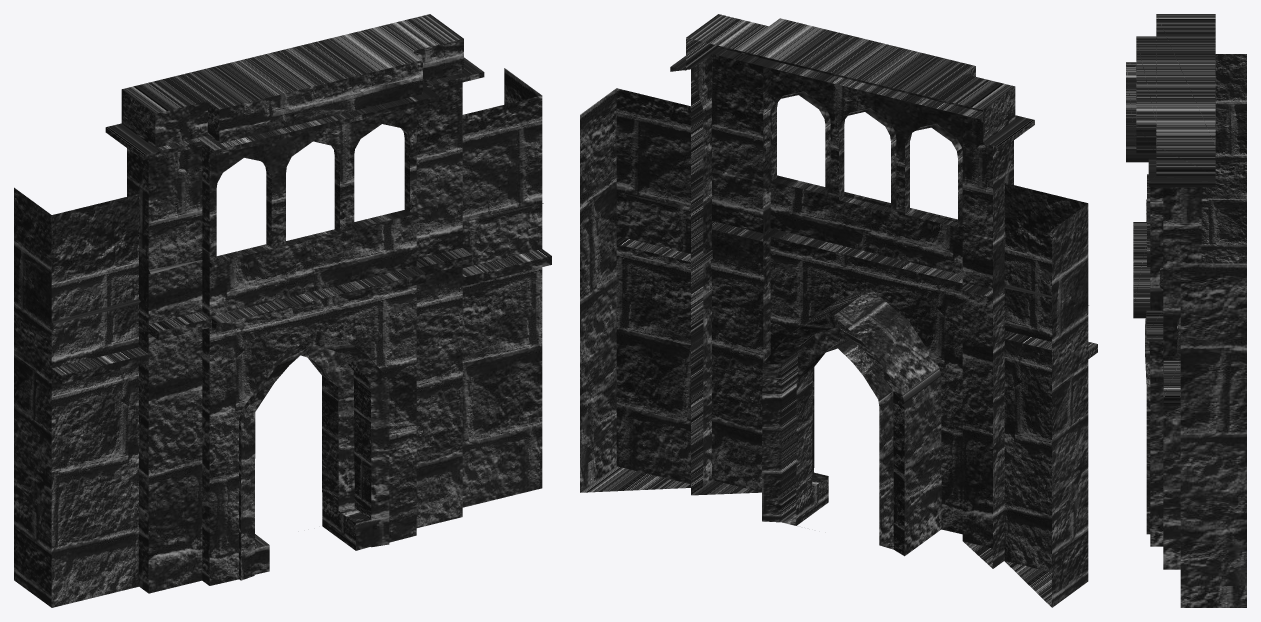
Rendered from wall.fbx.
The picture shows the model from 3 angles, left to right: view 1: azimuth 30°, elevation 25°; view 2: azimuth 150°, elevation 25°; view 3: azimuth 270°, elevation 25°; orthographic projection. The views are drawn at different scales.
Parts seen in each view (by area): view 1: Cube.005; view 2: Cube.005; view 3: Cube.005.
Boxes of the visible parts, <box> form: Cube.005: <box>14,14,551,607</box>; Cube.005: <box>580,14,1097,607</box>; Cube.005: <box>1126,14,1246,607</box>.
Size of the model in its own units: 722 by 679 by 176.
